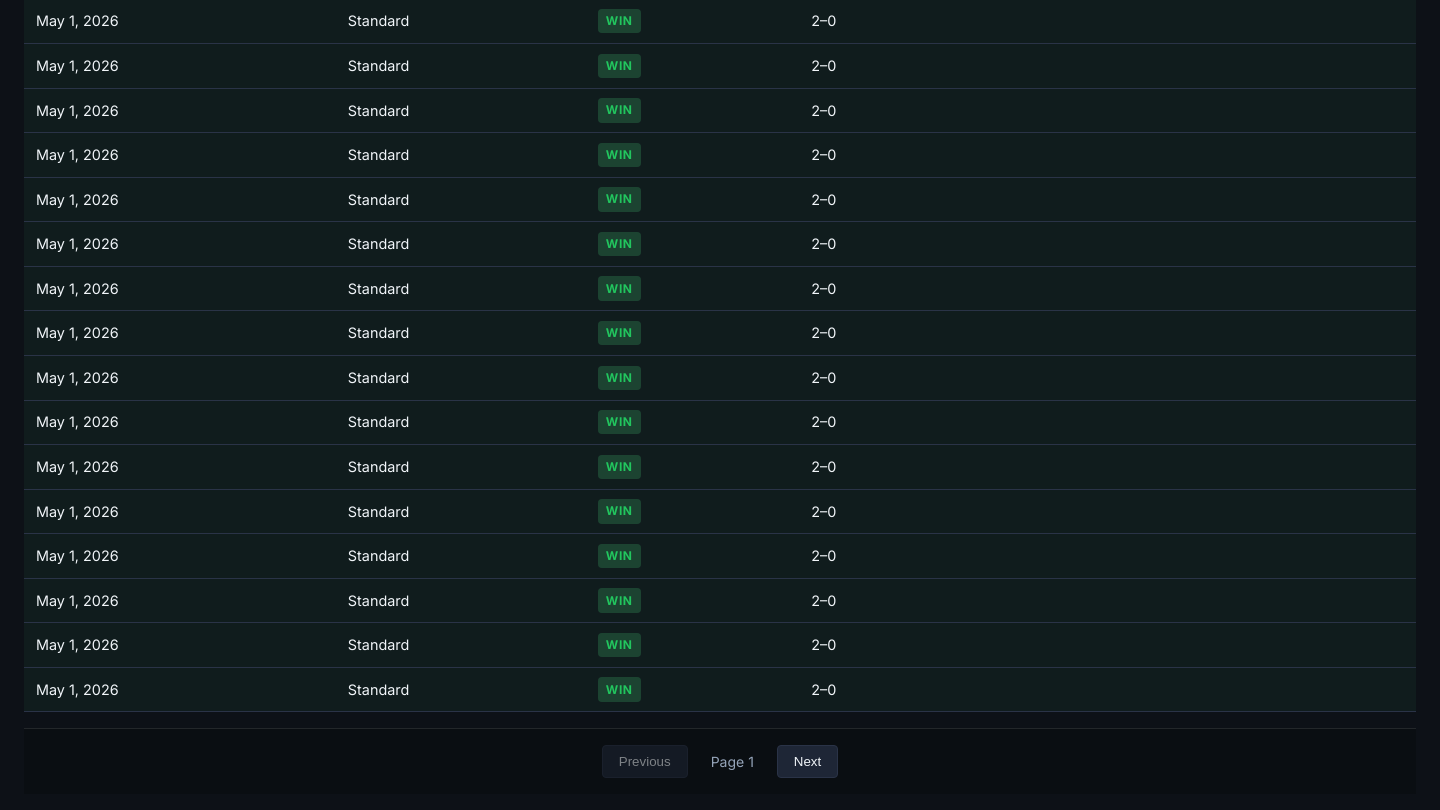
Scenario: BffMatchHistory › Cursor-based pagination › clicking Next fetches the next page using cursor params
(page scrolled)
Click the button "Next".
click(808, 762)  # box [777,745,838,778]
(page scrolled)
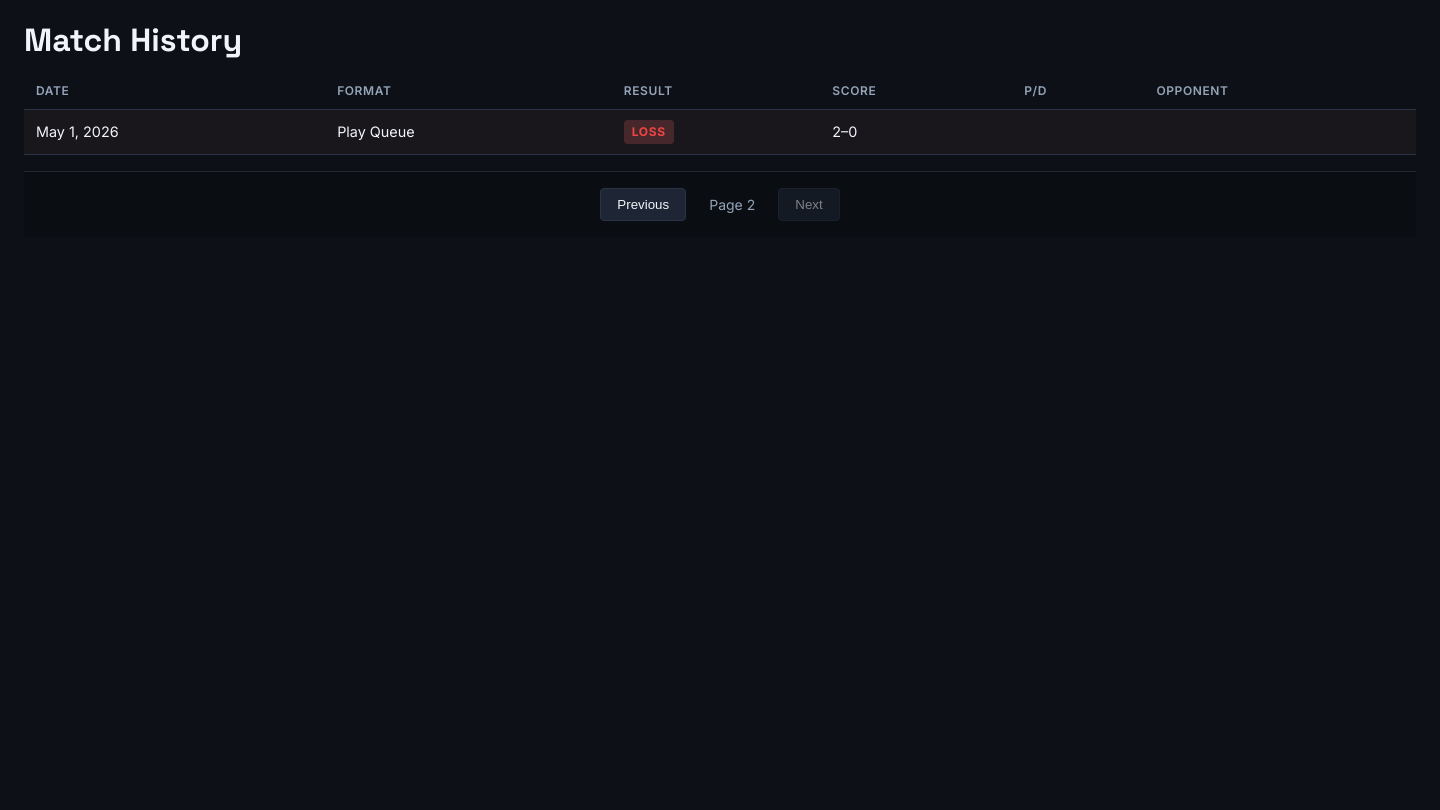
Expected: the text "LOSS" is shown, [624,120,674,144]
